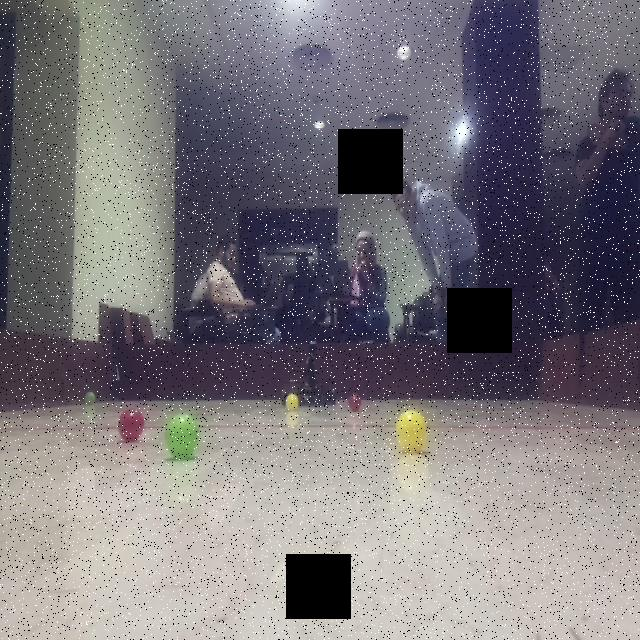ball: (163, 410, 202, 460), (394, 408, 431, 452), (115, 406, 147, 446), (281, 387, 306, 415), (344, 389, 366, 414), (81, 389, 100, 407)
